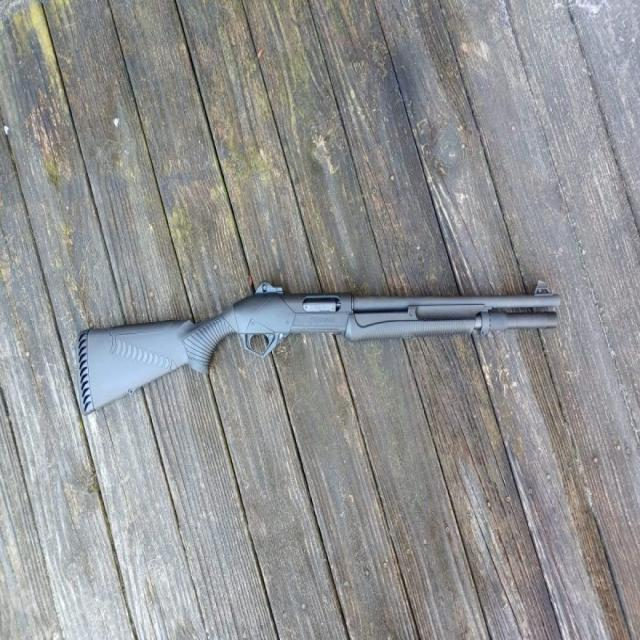ShotGun: (76, 282, 559, 414)
